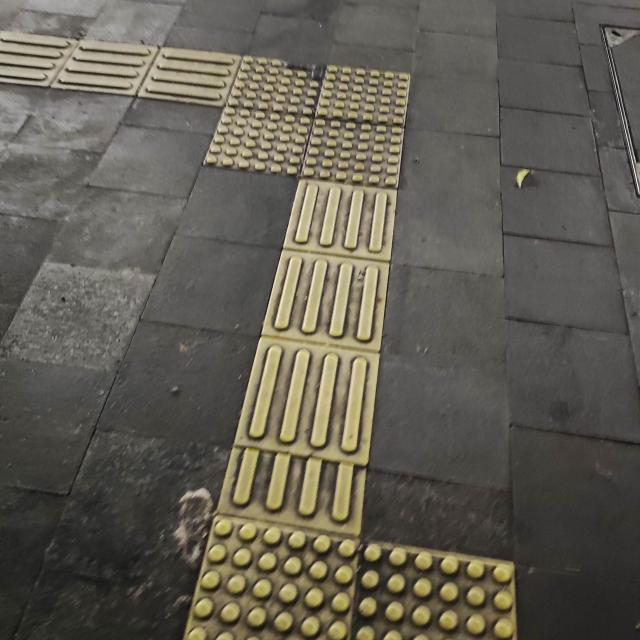kiri: (100, 27, 472, 212)
